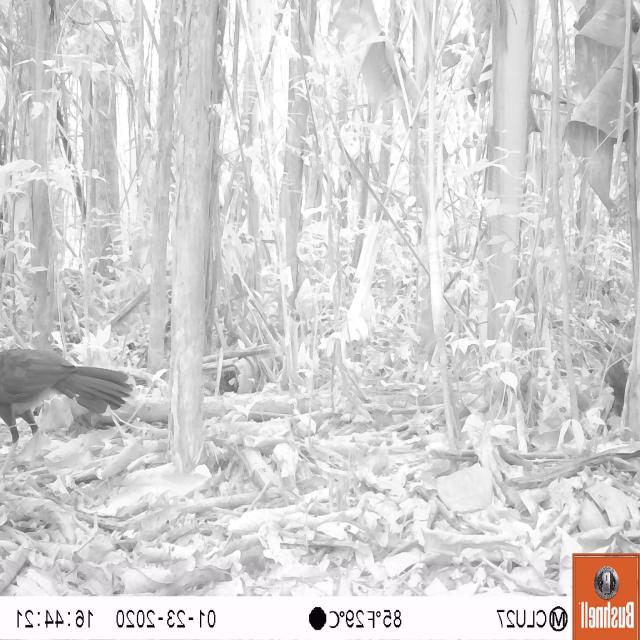Salvins Curassow: (0, 340, 134, 450)
